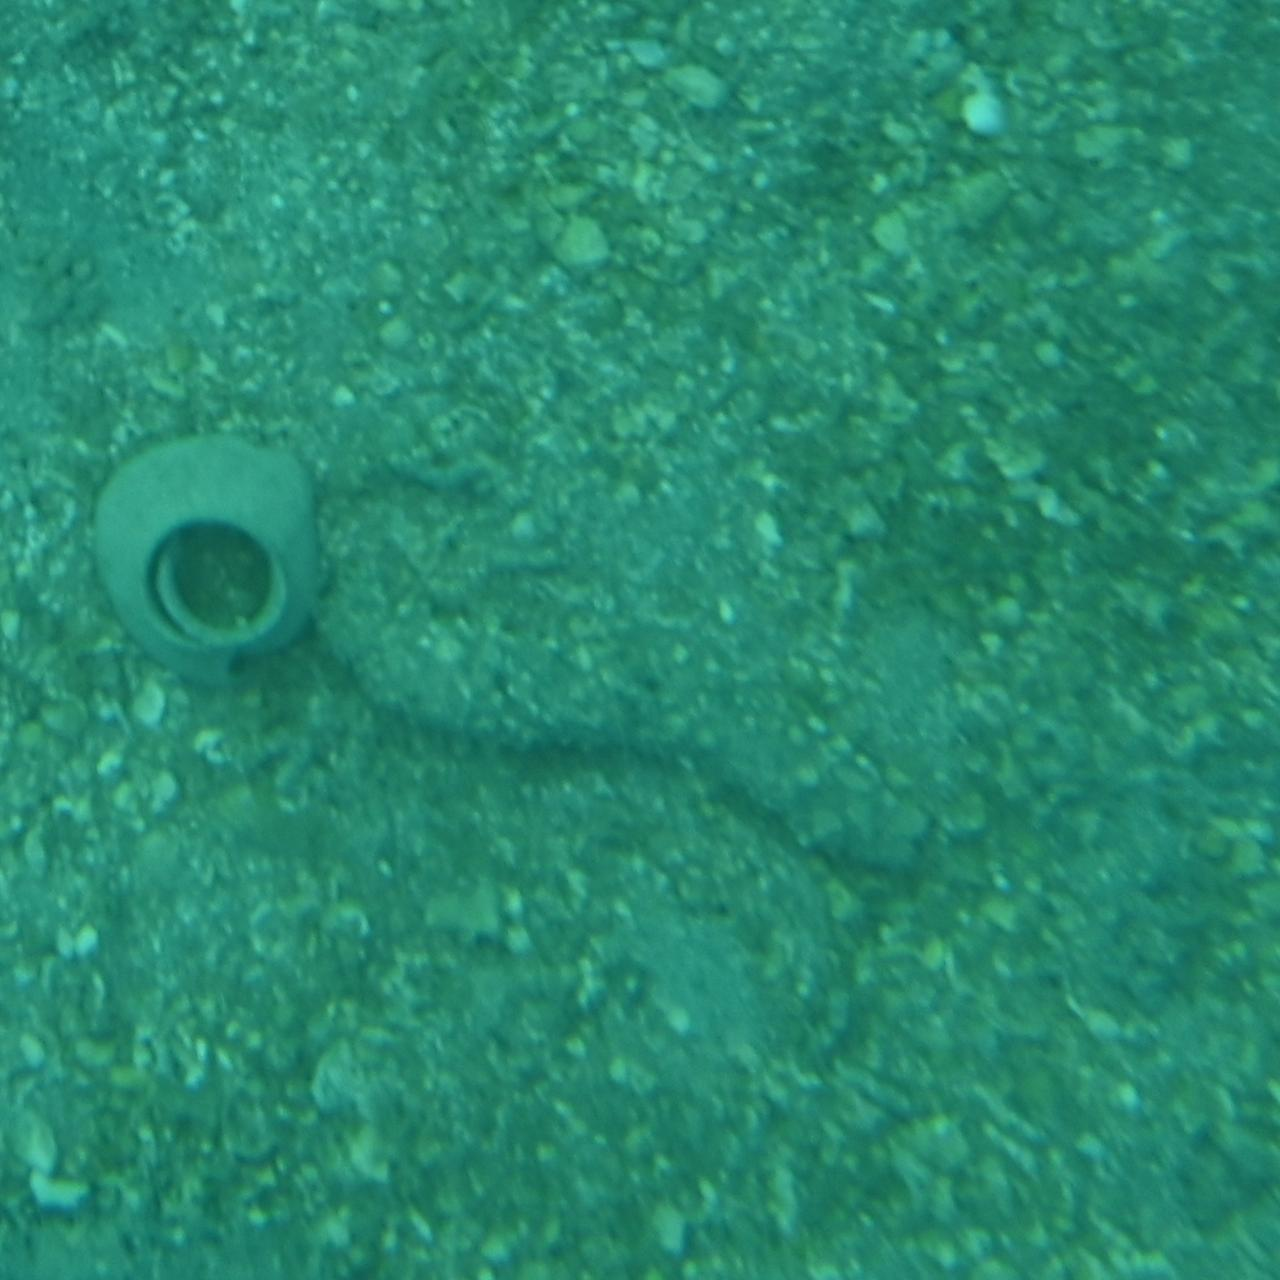Holothuria tubulosa: (336, 571, 944, 863)
